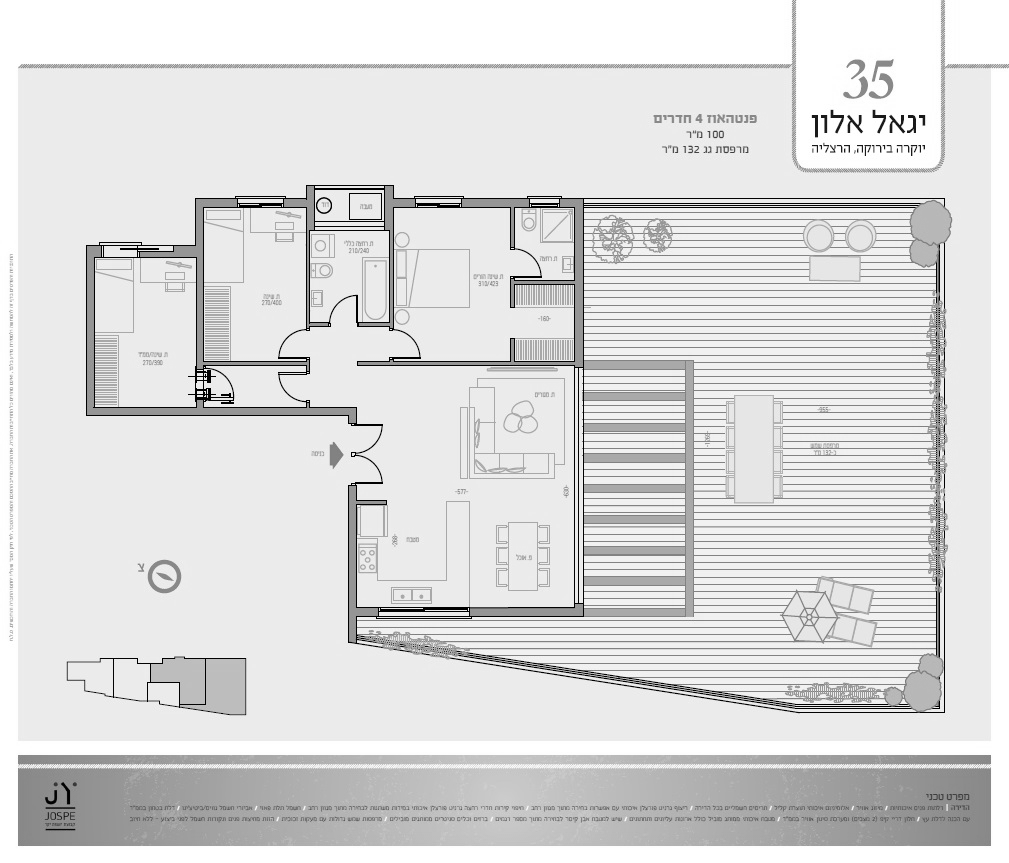wall: (87, 407, 356, 416), (573, 198, 584, 367), (86, 244, 95, 415), (348, 485, 357, 642), (195, 198, 203, 364), (469, 607, 583, 617), (461, 198, 530, 207)
